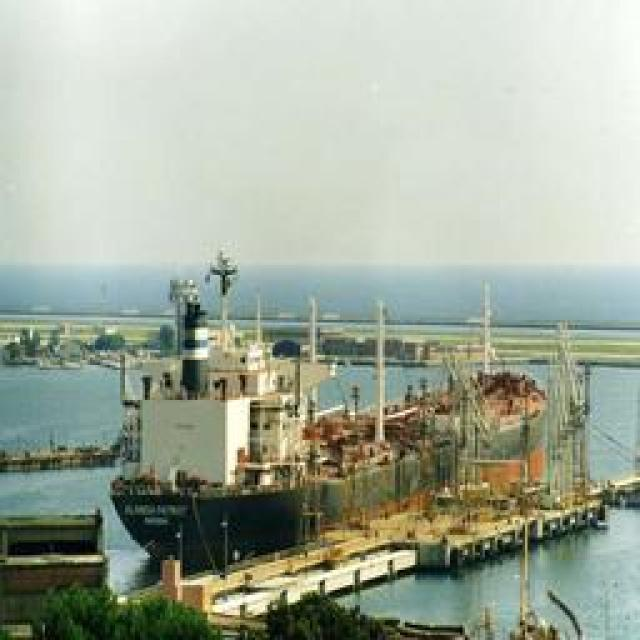CIV_Ship: (111, 272, 616, 566)
